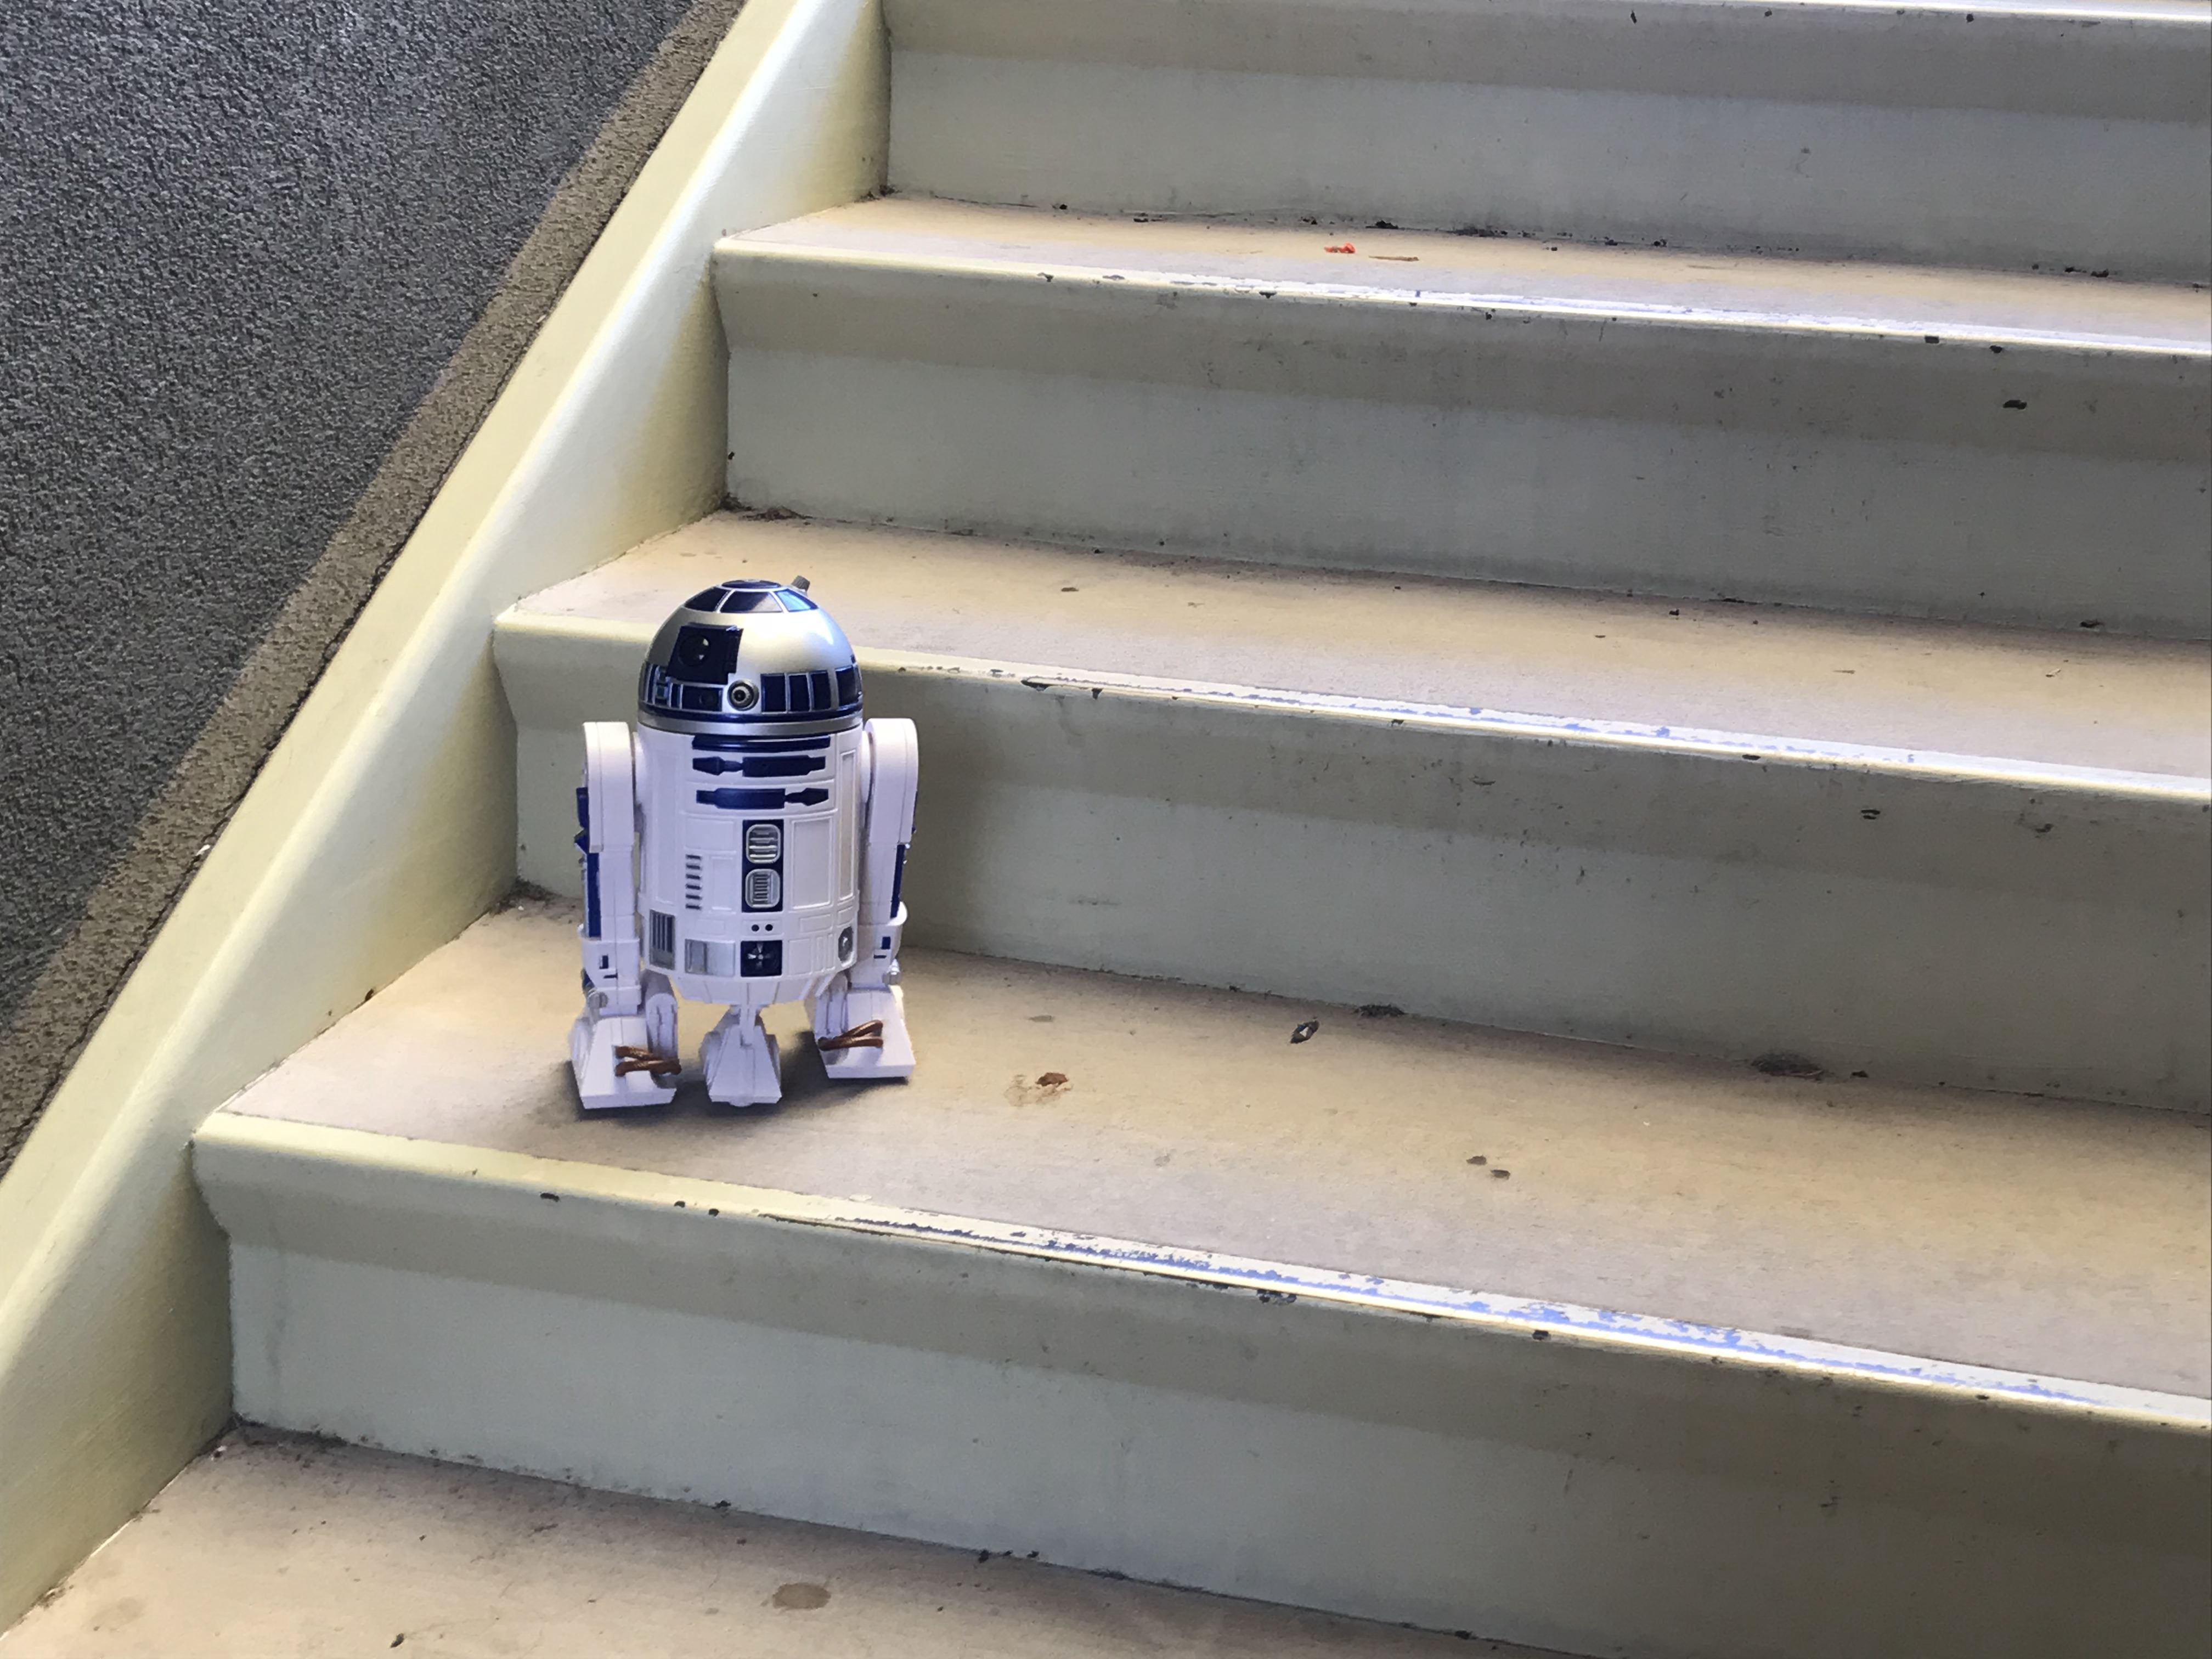r2d2: (564, 575, 920, 1115)
